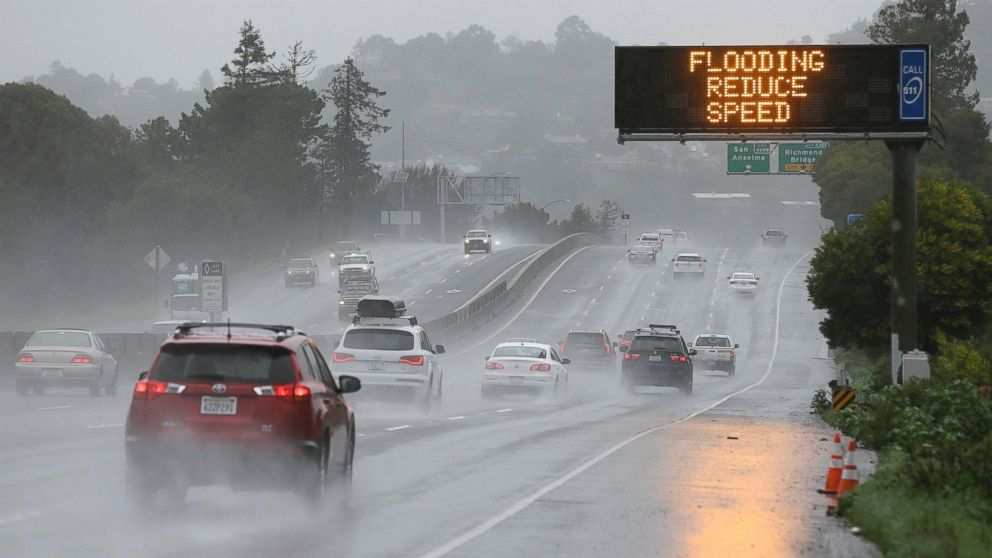car: (123, 326, 359, 521), (330, 325, 446, 419), (12, 328, 116, 397), (619, 326, 696, 395), (482, 341, 570, 390), (557, 327, 617, 378), (688, 332, 741, 378), (336, 280, 375, 311), (282, 257, 318, 287), (338, 252, 374, 281), (725, 271, 761, 295), (671, 252, 706, 276), (462, 228, 492, 254), (627, 244, 657, 266), (759, 226, 789, 248), (329, 241, 357, 264), (636, 232, 665, 252), (622, 328, 643, 349)
truck: (164, 271, 222, 326)
